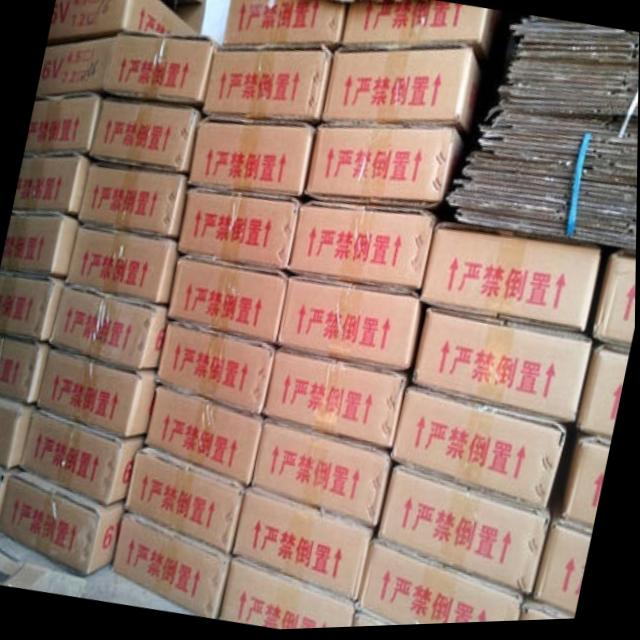box: (376, 456, 554, 598), (392, 383, 573, 513), (409, 302, 594, 427), (419, 225, 600, 337), (233, 490, 378, 607), (252, 416, 393, 532), (288, 202, 442, 301), (320, 48, 486, 139), (265, 351, 410, 455), (306, 124, 469, 216), (357, 541, 529, 628), (278, 279, 420, 378), (124, 448, 247, 561), (0, 469, 127, 578), (145, 383, 265, 492), (21, 406, 147, 508), (113, 518, 232, 619), (156, 319, 277, 418), (38, 344, 160, 440), (168, 256, 288, 352), (179, 185, 301, 279), (188, 119, 320, 201), (51, 283, 171, 371), (201, 48, 335, 124), (66, 223, 181, 309), (219, 560, 357, 631), (90, 93, 203, 175), (79, 160, 190, 241), (340, 7, 494, 60), (103, 32, 214, 104), (548, 426, 612, 542), (48, 0, 207, 42), (532, 517, 592, 619), (221, 0, 345, 48), (576, 336, 630, 444), (0, 207, 80, 277), (36, 33, 117, 98), (24, 93, 103, 159), (587, 255, 637, 355), (13, 153, 89, 214), (0, 273, 68, 340), (0, 330, 51, 406), (0, 396, 37, 473), (522, 598, 576, 625), (353, 608, 397, 630), (0, 469, 13, 530)
